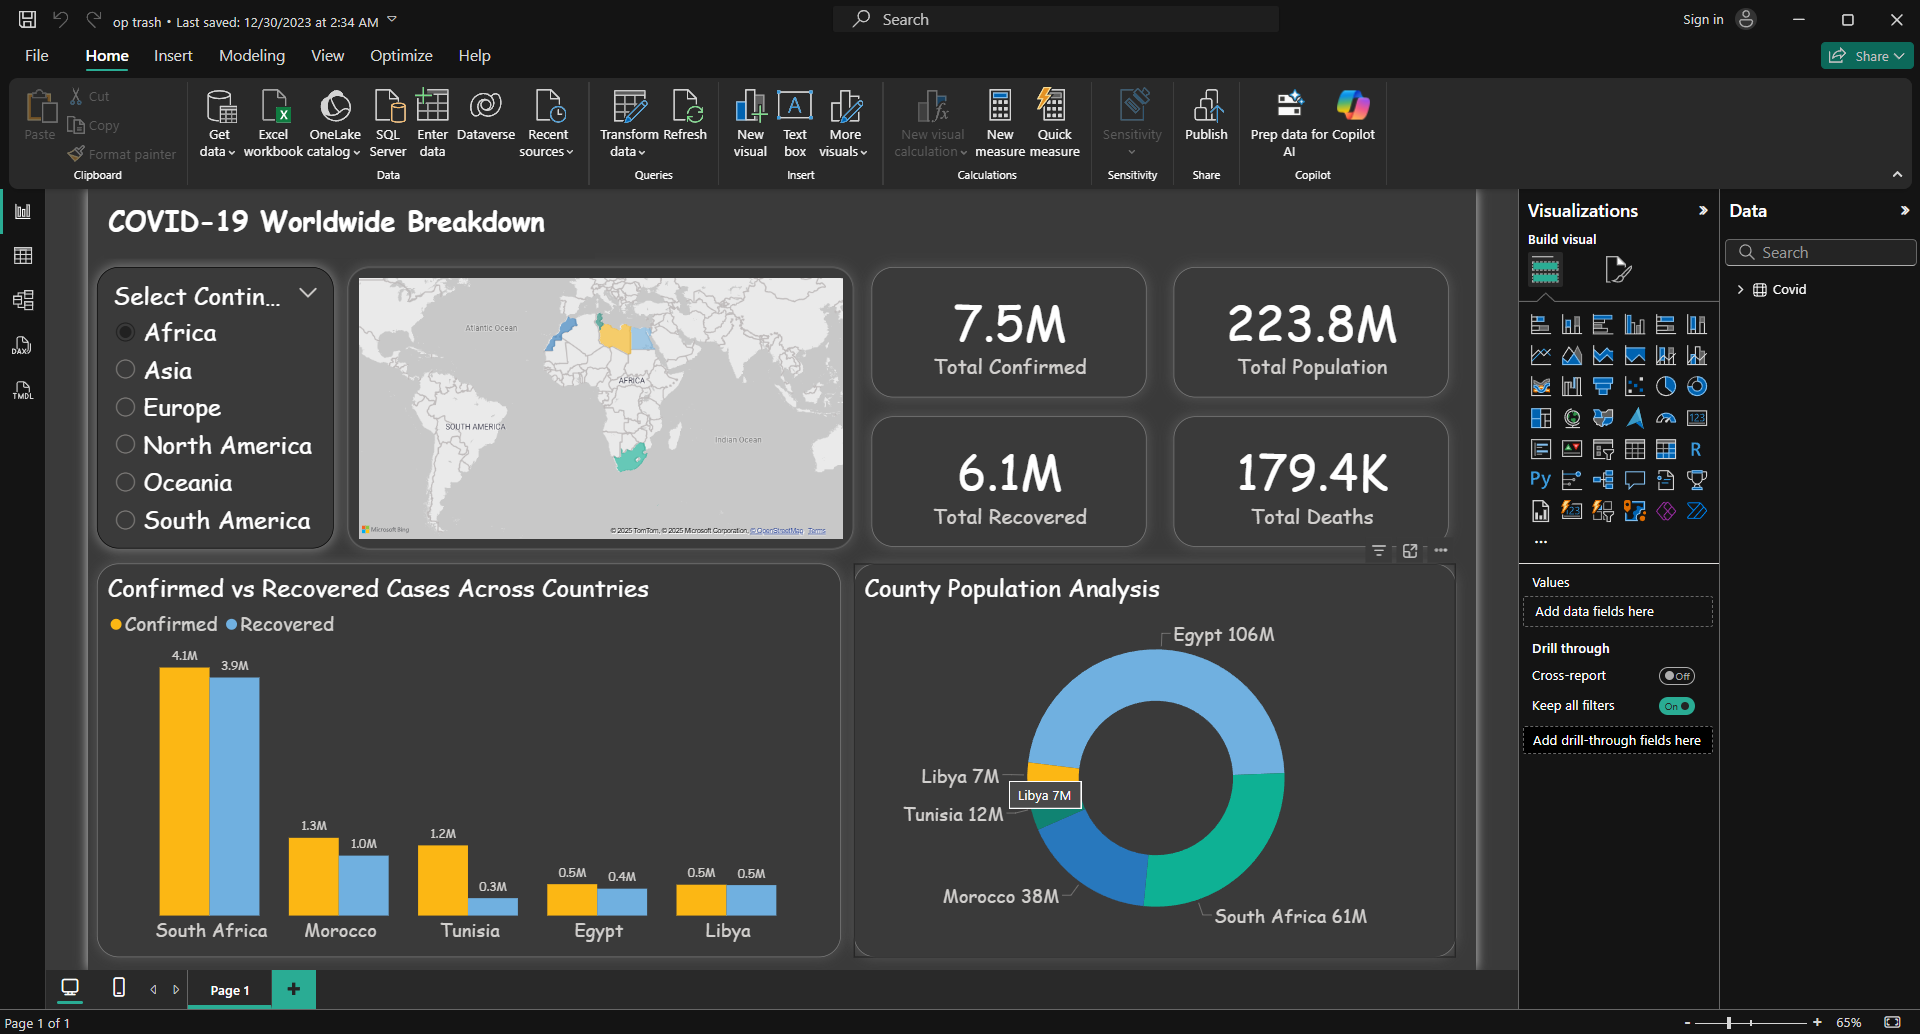

What the dashboard file says about the page in this screenshot:
{"tool":"powerbi","page":{"name":"Page 1","canvas":[1920,1080],"ordinal":0},"visuals":[{"type":"filledMap","fields":{"Category":["Covid.Country"],"Series":["Covid.Country"]},"box":[359.3,108.4,699.4,390],"z":0},{"type":"slicer","fields":{"Values":["Covid.Continent"]},"box":[12.8,108.4,327.4,389.1],"z":1000},{"type":"card","fields":{"Values":["Sum(Covid.Total Recovered)"]},"box":[1084.3,314.6,380.6,180.7],"z":2000},{"type":"card","fields":{"Values":["Sum(Covid.Total Confirmed)"]},"box":[1084.3,108.4,380.6,180.7],"z":3000},{"type":"card","fields":{"Values":["Sum(Covid.Total Deaths)"]},"box":[1500.9,314.6,380.6,180.7],"z":4000},{"type":"card","fields":{"Values":["Sum(Covid.Population)"]},"box":[1500.9,108.4,380.6,180.7],"z":5000},{"type":"donutChart","title":"County Population Analysis","fields":{"Category":["Covid.Country"],"Y":["Sum(Covid.Population)"]},"box":[1058.7,518.7,833.4,544.3],"z":6000},{"type":"clusteredColumnChart","title":"Confirmed vs Recovered Cases Across Countries","fields":{"Category":["Covid.Country"],"Y":["Sum(Covid.Total Confirmed)","Sum(Covid.Total Recovered)"]},"box":[12.8,518.7,1029,544.3],"z":7000},{"type":"textbox","box":[23.4,10.6,678.2,85],"z":8000}]}

Visuals, with their boxes on the page's 1920x1080 design canvas (x1, y1, x2, y2). These are canvas units, not pixel positions in the 1920x1034 screenshot, which may show the page scaled, cropped or inside an application window:
filledMap - Covid.Country x Covid.Country: x1=359, y1=108, x2=1059, y2=498
slicer - Covid.Continent: x1=13, y1=108, x2=340, y2=498
card - Sum(Covid.Total Recovered): x1=1084, y1=315, x2=1465, y2=495
card - Sum(Covid.Total Confirmed): x1=1084, y1=108, x2=1465, y2=289
card - Sum(Covid.Total Deaths): x1=1501, y1=315, x2=1882, y2=495
card - Sum(Covid.Population): x1=1501, y1=108, x2=1882, y2=289
"County Population Analysis" donutChart: x1=1059, y1=519, x2=1892, y2=1063
"Confirmed vs Recovered Cases Across Countries" clusteredColumnChart: x1=13, y1=519, x2=1042, y2=1063
textbox: x1=23, y1=11, x2=702, y2=96
